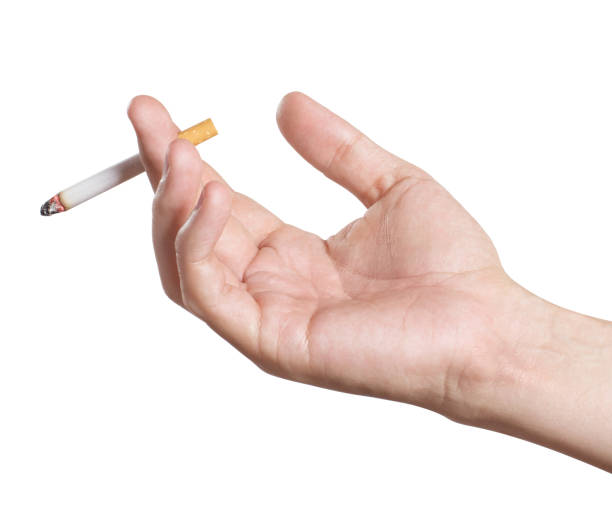cigarette: (41, 114, 221, 219)
